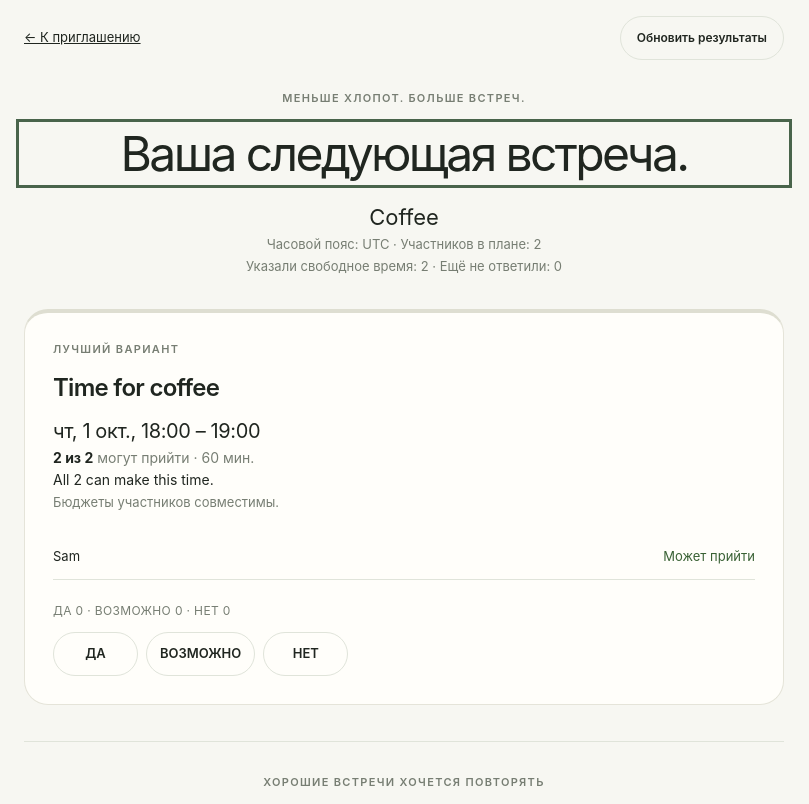
group results › explains stale results and reloads instead of overwriting a saved vote
Click the button "ВОЗМОЖНО" at (201, 654), box [146,632,255,676]
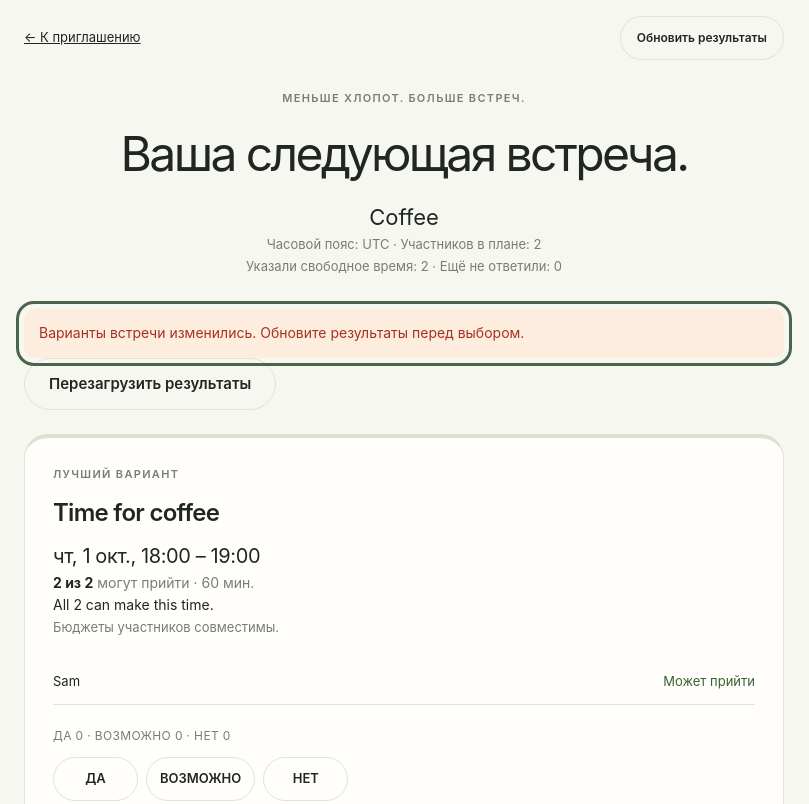
Expected: the message shows "Варианты встречи изменились", [39,324,524,341]
Click the button "Перезагрузить результаты" at (150, 384), box [24,358,276,410]
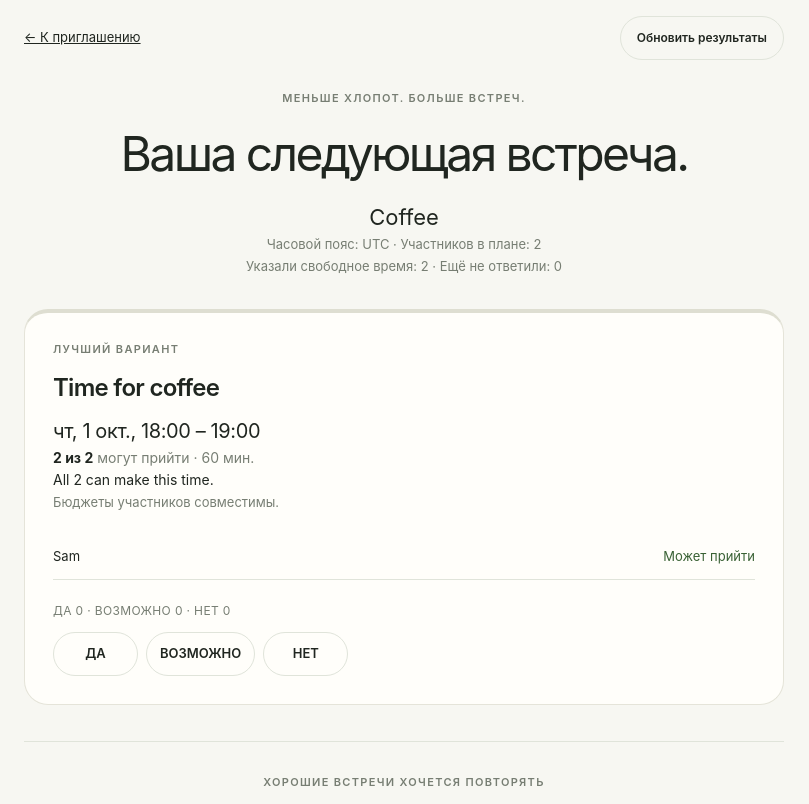
Expected: the message "Варианты встречи изменились. Обновите результаты перед выбором." is gone
